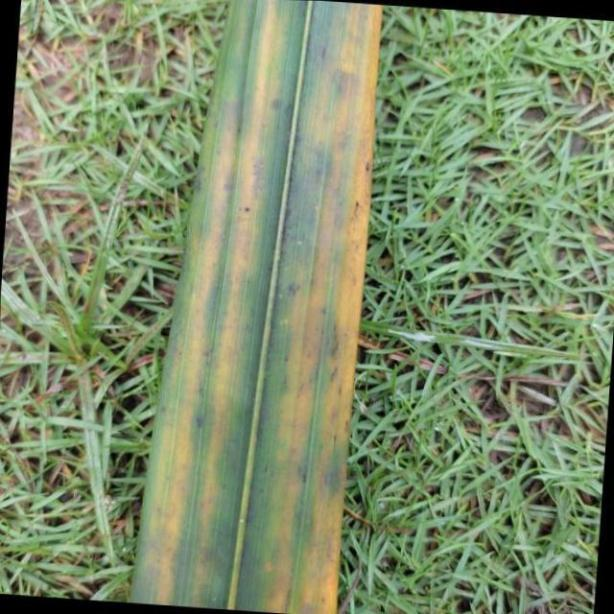Megnesium: (126, 0, 381, 614)
